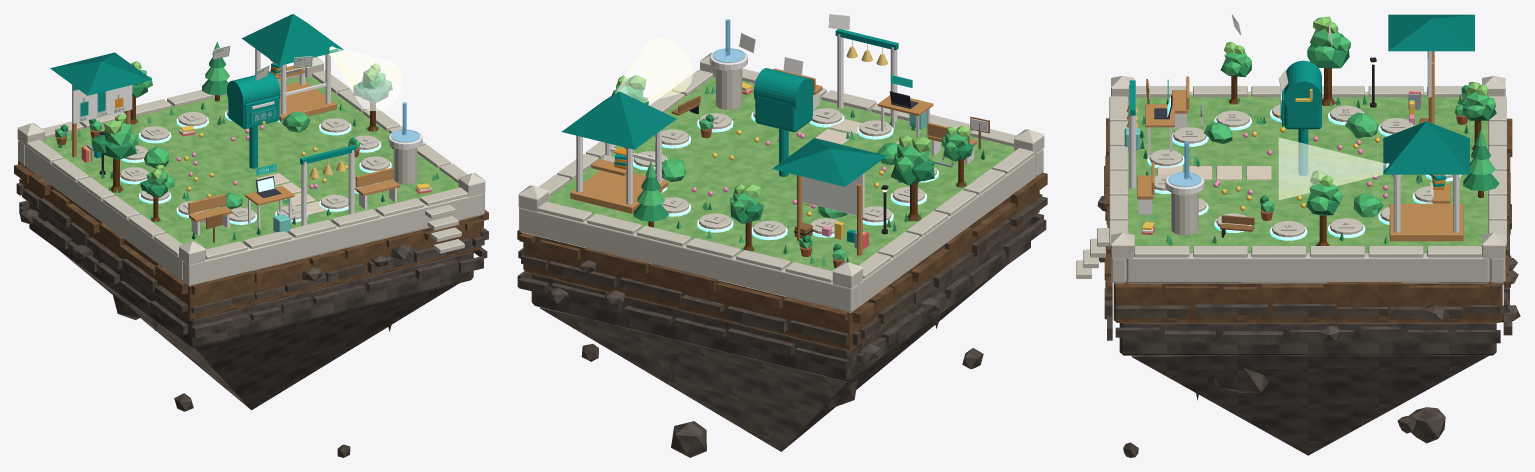
Rendered from care.glb.
3 views of the same model, side by side, from view 1: azimuth 30°, elevation 25°; view 2: azimuth 150°, elevation 25°; view 3: azimuth 270°, elevation 25° (orthographic). The views are drawn at different scales.
Visible parts, largest first — view 1: garden_rock, garden_stone_soft, garden_lawn, garden_soil, garden_roof_teal, garden_wood_light, garden_white.001, fxhide_beam_beam_light, garden_leaf, garden_teal, garden_leaf_dark, garden_care_board (+5 smaller); view 2: garden_rock, garden_stone_soft, garden_lawn, garden_soil, garden_roof_teal, garden_wood_light, garden_teal, garden_white.001, garden_leaf, fxhide_beam_beam_light, garden_leaf_dark, props_props_palette (+4 smaller); view 3: garden_rock, garden_stone_soft, garden_lawn, garden_soil, garden_roof_teal, garden_leaf, garden_wood_light, fxhide_beam_beam_light, garden_teal, garden_white.001, garden_leaf_dark, props_props_palette (+3 smaller).
Boxes of the visible parts, x1,y1,x2,y2 form: garden_rock: [16, 178, 488, 457]; garden_stone_soft: [17, 57, 485, 286]; garden_lawn: [44, 76, 458, 249]; garden_soil: [14, 161, 488, 320]; garden_roof_teal: [50, 14, 343, 95]; garden_wood_light: [72, 65, 399, 222]; garden_white.001: [191, 48, 422, 235]; fxhide_beam_beam_light: [329, 48, 403, 110]; garden_leaf: [70, 41, 439, 222]; garden_teal: [227, 71, 355, 168]; garden_leaf_dark: [58, 57, 388, 240]; garden_care_board: [72, 85, 132, 123]; garden_rock: [517, 194, 1047, 457]; garden_stone_soft: [518, 53, 1044, 312]; garden_lawn: [548, 77, 1014, 271]; garden_soil: [517, 172, 1047, 350]; garden_roof_teal: [561, 91, 886, 186]; garden_wood_light: [570, 68, 976, 255]; garden_teal: [753, 29, 898, 176]; garden_white.001: [576, 34, 973, 204]; garden_leaf: [611, 84, 967, 265]; fxhide_beam_beam_light: [615, 38, 692, 102]; garden_leaf_dark: [633, 96, 985, 262]; props_props_palette: [671, 82, 989, 267]; garden_rock: [1097, 166, 1520, 457]; garden_stone_soft: [1076, 76, 1506, 283]; garden_lawn: [1128, 94, 1488, 253]; garden_soil: [1104, 118, 1512, 322]; garden_roof_teal: [1383, 14, 1474, 174]; garden_leaf: [1166, 29, 1495, 245]; garden_wood_light: [1137, 51, 1463, 241]; fxhide_beam_beam_light: [1278, 137, 1386, 199]; garden_teal: [1129, 60, 1321, 175]; garden_white.001: [1129, 84, 1459, 232]; garden_leaf_dark: [1140, 33, 1499, 215]; props_props_palette: [1141, 57, 1468, 237].
Size of the model in its own units: 4.28 by 4.76 by 4.5.
46 materials, 31 textured.
